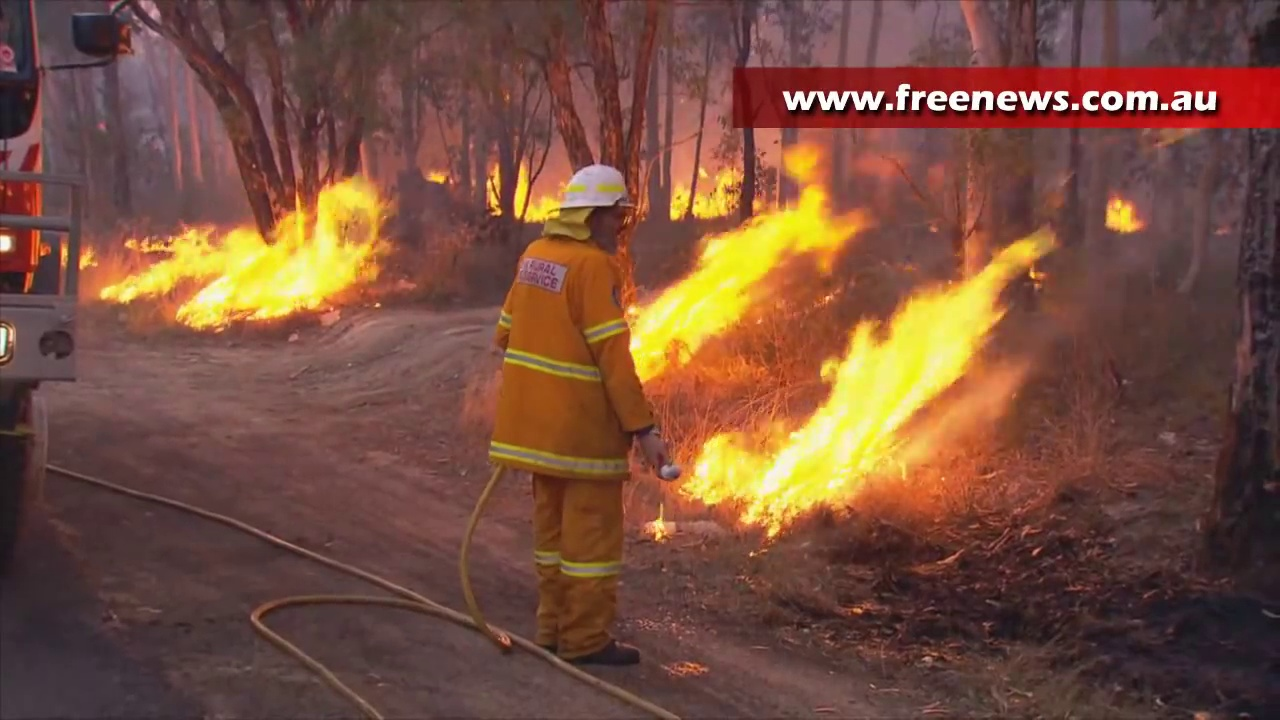fire: (699, 243, 1046, 523), (628, 158, 857, 380), (105, 179, 378, 326), (480, 161, 557, 222), (674, 176, 735, 216), (1105, 195, 1140, 234)
